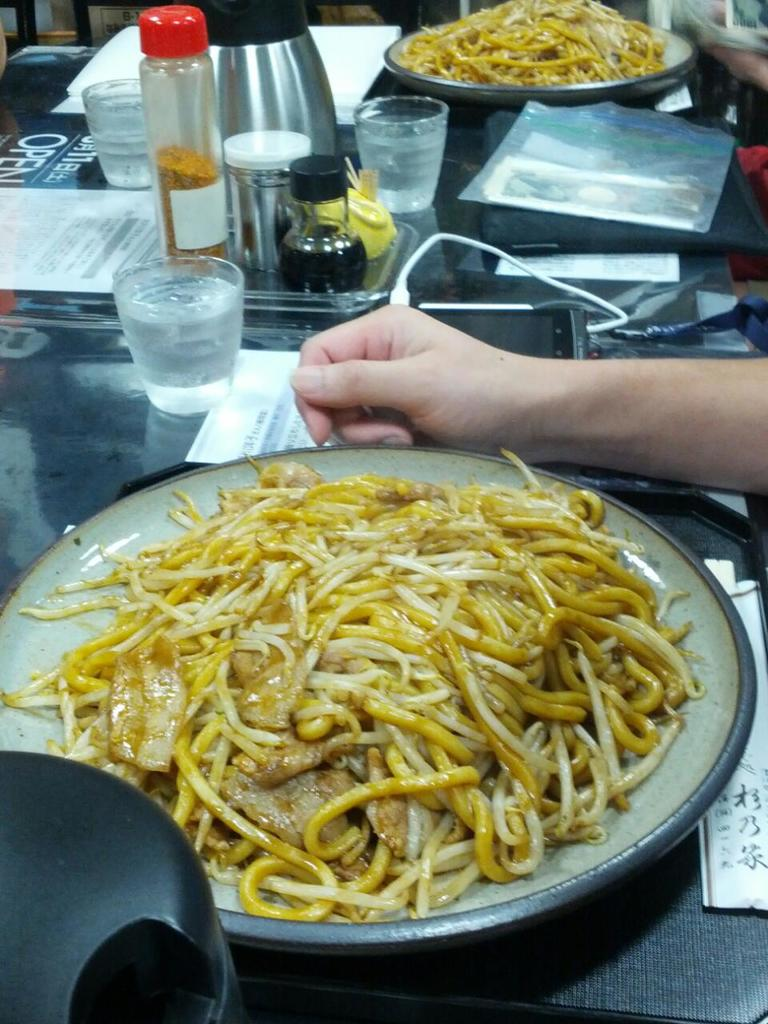pasta: (47, 454, 701, 918)
